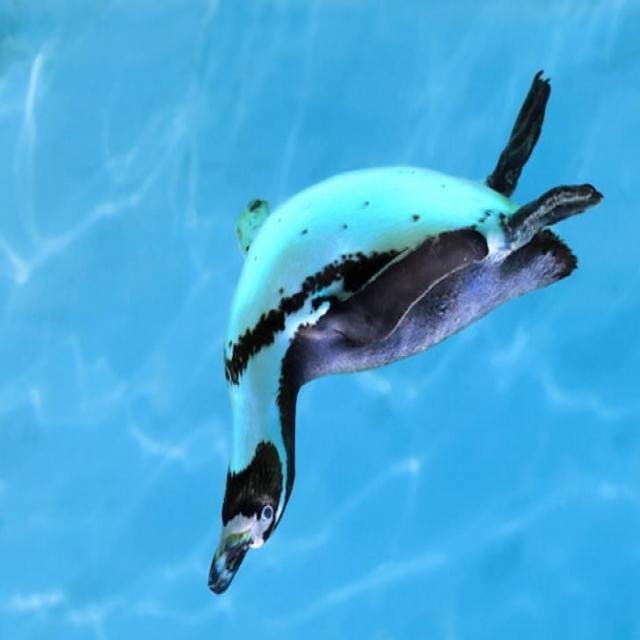penguin: (206, 69, 603, 596)
